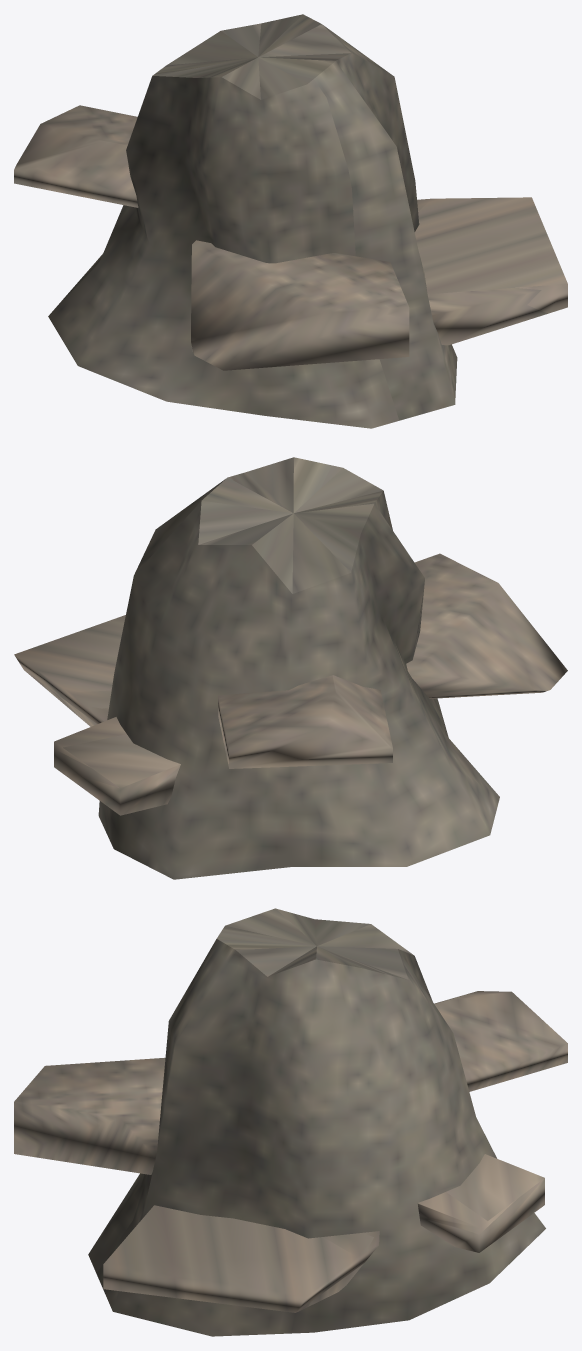
The model's file is shroom_bracket_stub.glb.
The picture shows the model from 3 angles, top to bottom: view 1: azimuth 30°, elevation 25°; view 2: azimuth 150°, elevation 25°; view 3: azimuth 270°, elevation 25°; orthographic projection. The views are drawn at different scales.
Visible parts, largest first — view 1: shroom_bracket_stub; view 2: shroom_bracket_stub; view 3: shroom_bracket_stub.
Part boxes in pixels (x1,y1,x2,y2): shroom_bracket_stub: [14, 14, 567, 428]; shroom_bracket_stub: [14, 457, 567, 879]; shroom_bracket_stub: [14, 908, 567, 1336].
Bounding box in the file's own units: 0.5103 × 0.3435 × 0.5167.
1 material, 1 textured.
